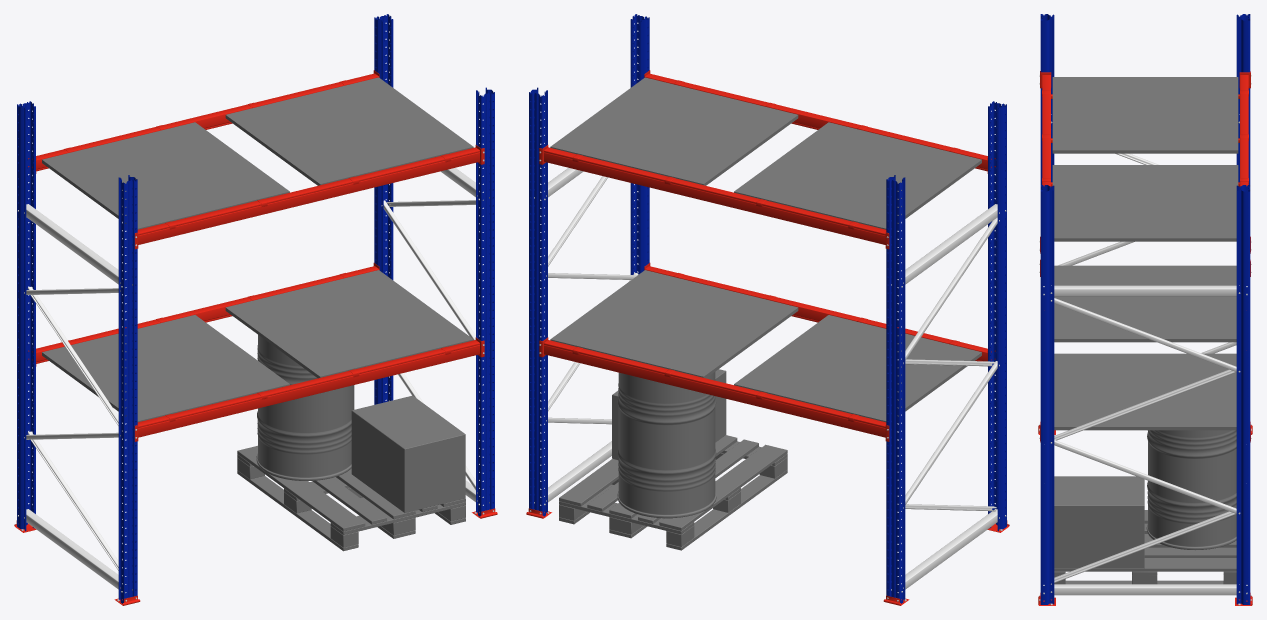
Rendered from DoubleStorageRack.FBX.
3 views of the same model, side by side, from view 1: azimuth 30°, elevation 25°; view 2: azimuth 150°, elevation 25°; view 3: azimuth 270°, elevation 25° (orthographic). The views are drawn at different scales.
Parts seen in each view (by area): view 1: Plywood, Plywood002, Plywood003, Plywood001, Iron_Rack001, Box001, Iron_Rack, Barrel, Pallet, Beam001, Beam, Iron_Rack002 (+4 smaller); view 2: Plywood, Plywood002, Plywood003, Plywood001, Barrel, Iron_Rack001, Iron_Rack, Pallet, Beam001, Beam, Iron_Rack002, Crossbar_Diagonal001 (+4 smaller); view 3: Plywood003, Plywood002, Plywood, Plywood001, Barrel, Box001, Iron_Rack001, Iron_Rack, Pallet, Iron_Rack002, Crossbar_Diagonal001, Crossbar_Diagonal (+3 smaller).
Part boxes in pixels (<box>): Plywood: <box>225,270,473,378</box>; Plywood002: <box>225,77,473,185</box>; Plywood003: <box>42,122,289,229</box>; Plywood001: <box>42,315,289,422</box>; Iron_Rack001: <box>17,83,494,428</box>; Box001: <box>351,395,465,512</box>; Iron_Rack: <box>17,259,494,603</box>; Barrel: <box>256,335,354,480</box>; Pallet: <box>237,445,465,551</box>; Beam001: <box>28,70,484,249</box>; Beam: <box>28,263,484,441</box>; Iron_Rack002: <box>17,14,494,251</box>; Plywood: <box>550,270,798,378</box>; Plywood002: <box>550,77,798,185</box>; Plywood003: <box>734,122,981,229</box>; Plywood001: <box>734,315,981,422</box>; Barrel: <box>617,372,716,518</box>; Iron_Rack001: <box>529,83,1006,428</box>; Iron_Rack: <box>529,259,1006,603</box>; Pallet: <box>559,435,787,550</box>; Beam001: <box>539,70,995,249</box>; Beam: <box>539,263,995,441</box>; Iron_Rack002: <box>529,14,1006,251</box>; Crossbar_Diagonal001: <box>540,176,999,366</box>; Plywood003: <box>1052,77,1238,153</box>; Plywood002: <box>1052,165,1238,241</box>; Plywood: <box>1054,353,1236,430</box>; Plywood001: <box>1054,265,1236,342</box>; Barrel: <box>1146,430,1236,550</box>; Box001: <box>1054,476,1144,568</box>; Iron_Rack001: <box>1040,83,1250,431</box>; Iron_Rack: <box>1040,426,1250,604</box>; Pallet: <box>1054,510,1236,584</box>; Iron_Rack002: <box>1040,14,1250,258</box>; Crossbar_Diagonal001: <box>1050,153,1240,440</box>; Crossbar_Diagonal: <box>1050,342,1240,584</box>.
Size of the model in its own units: 2440 by 2632 by 1233.
